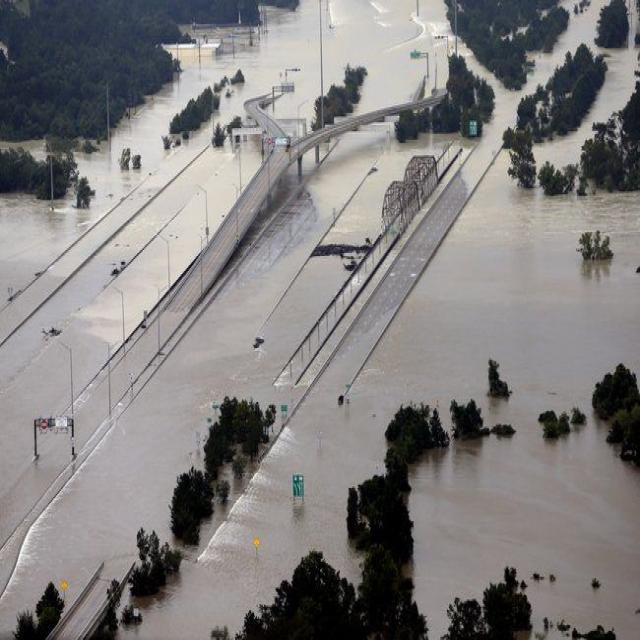flooded_areas: (0, 44, 626, 620)
